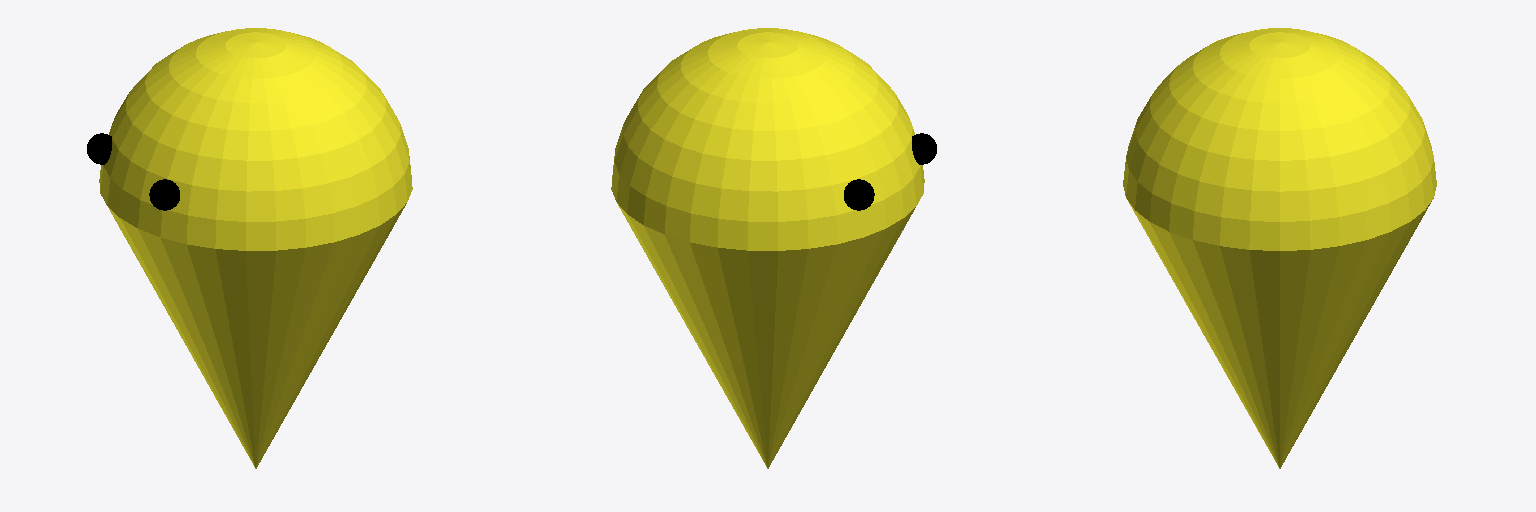
3 renders of one model, left to right at view 1: azimuth 30°, elevation 25°; view 2: azimuth 150°, elevation 25°; view 3: azimuth 270°, elevation 25°, orthographic.
Visible parts, largest first — view 1: 頭_球, 胴体, 眼球R, 眼球L; view 2: 頭_球, 胴体, 眼球L, 眼球R; view 3: 頭_球, 胴体.
Part boxes in pixels (left/top/right/bottom): 頭_球: left=99, top=28, right=412, bottom=250; 胴体: left=108, top=203, right=406, bottom=468; 眼球R: left=149, top=179, right=179, bottom=210; 眼球L: left=87, top=133, right=111, bottom=164; 頭_球: left=611, top=28, right=924, bottom=250; 胴体: left=617, top=203, right=915, bottom=468; 眼球L: left=844, top=179, right=874, bottom=210; 眼球R: left=912, top=133, right=936, bottom=164; 頭_球: left=1123, top=28, right=1436, bottom=250; 胴体: left=1126, top=198, right=1433, bottom=468.
Size of the model in its own units: 2 by 3 by 2.
1 materials, 1 textured.